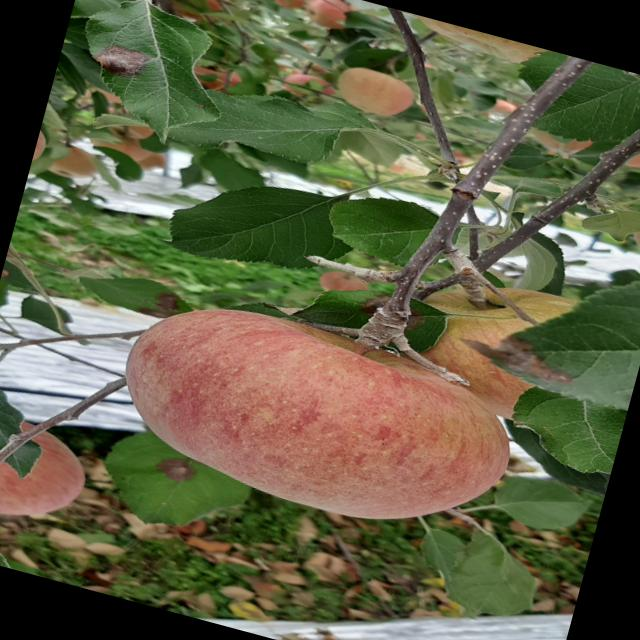fresh: (98, 275, 540, 563)
